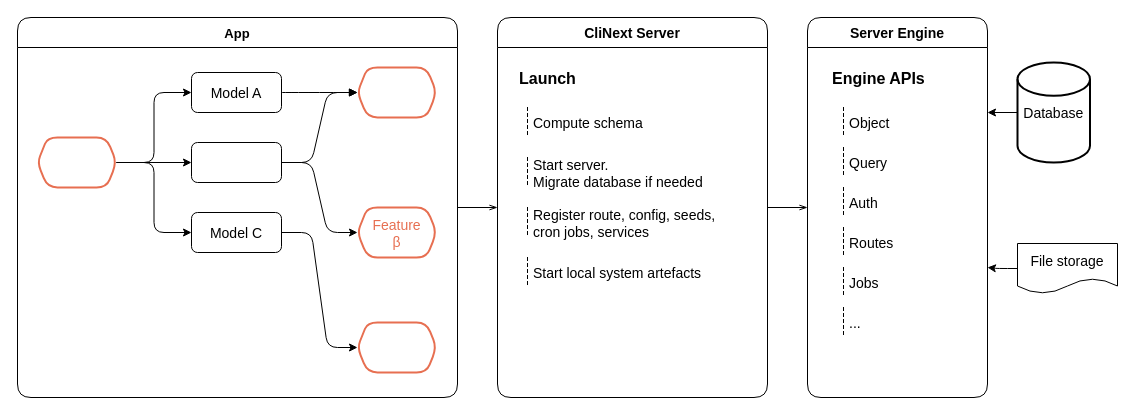
The diagram is 1135 pixels wide and 415 high, and some of its shapes have lost their labels. The centre of each missing label's shape, as x and y in pixels:
Feature app: pixel 76 162
Feature ⍺: pixel 396 92
Feature 𝛄: pixel 396 347
Model B: pixel 236 162
